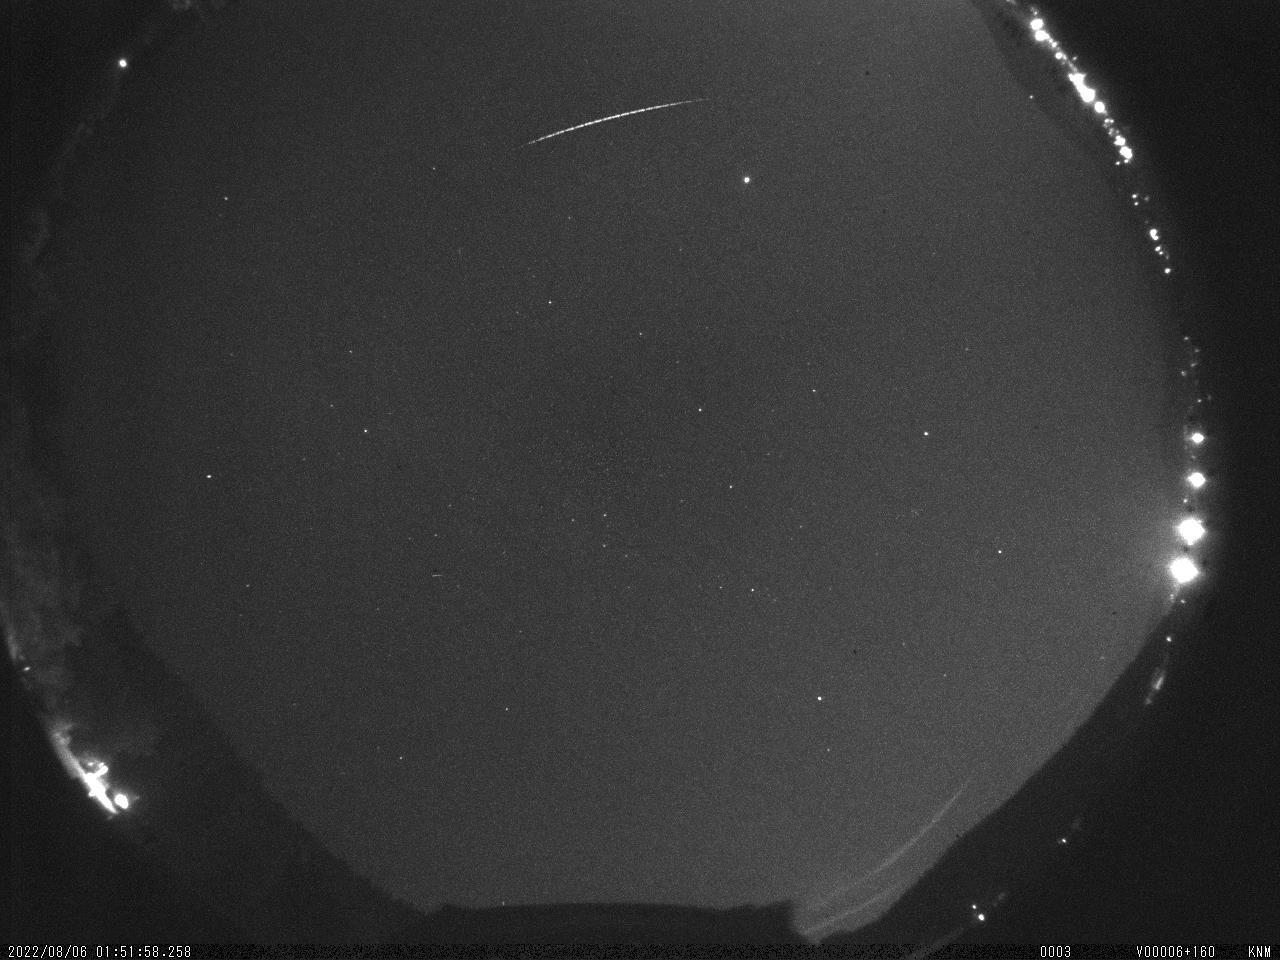Meteor: (515, 95, 705, 149)
